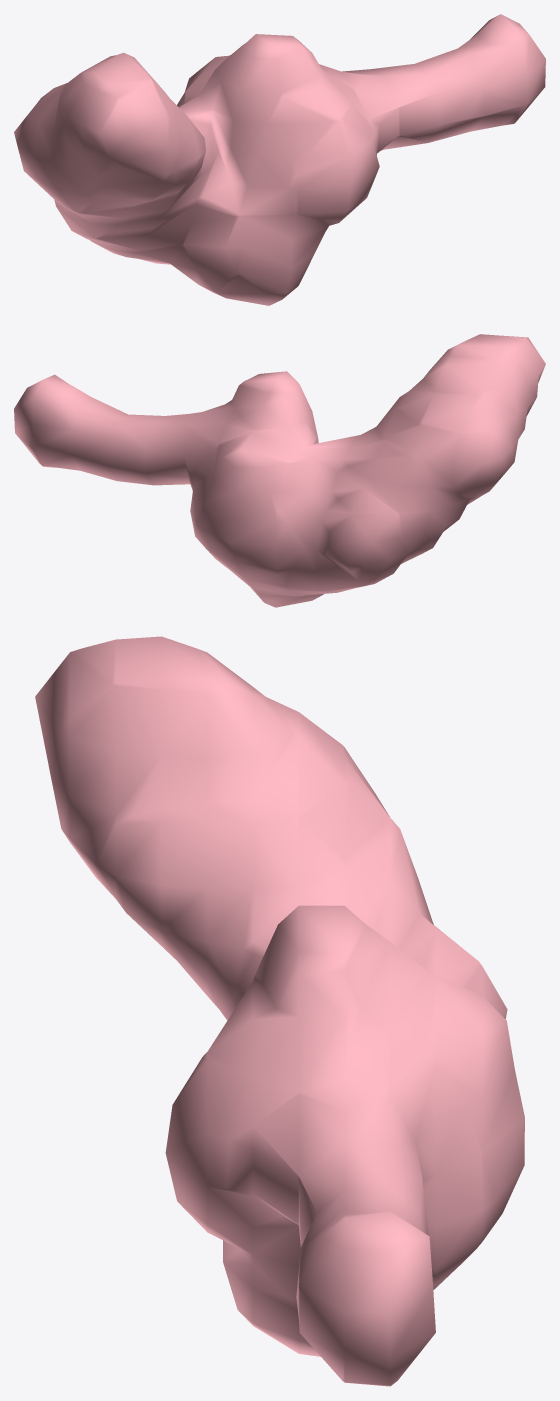
Rendered from Vesicle_262A2monomerAligned.fbx.
The picture shows the model from 3 angles, top to bottom: view 1: azimuth 30°, elevation 25°; view 2: azimuth 150°, elevation 25°; view 3: azimuth 270°, elevation 25°; orthographic projection. The views are drawn at different scales.
Parts seen in each view (by area): view 1: vesicle_MeshVes262Mesh; view 2: vesicle_MeshVes262Mesh; view 3: vesicle_MeshVes262Mesh.
Part boxes in pixels (x1,y1,x2,y2): vesicle_MeshVes262Mesh: (14,14,545,305); vesicle_MeshVes262Mesh: (14,334,545,607); vesicle_MeshVes262Mesh: (35,636,524,1386).
Bounding box in the file's own units: 100 × 56.24 × 45.7.
